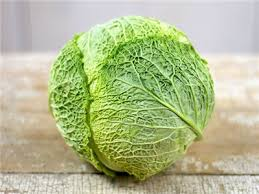cabbage: (46, 12, 221, 178)
